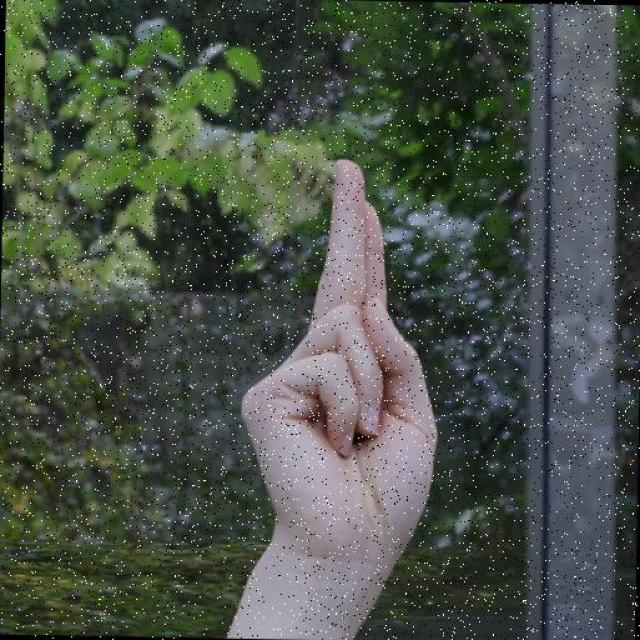U: (237, 154, 444, 608)
